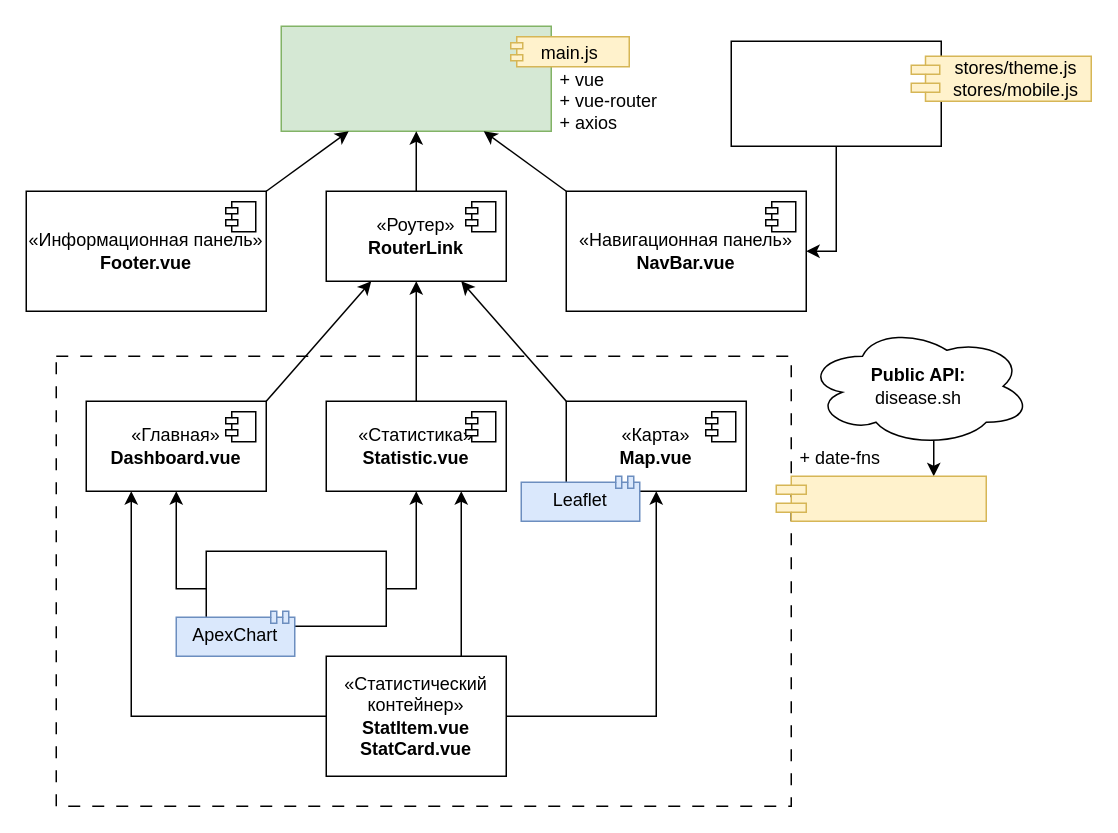
The diagram is 1118 pixels wide and 833 high, and some of its shapes have lost their labels. Here are the shapes that lost their labels. From the top down, the centre of each, then its label:
At pixel 415 78: "«Страница сайта» App.vue".
At pixel 835 93: "«Смена темы» ThemeButton.vue".
At pixel 880 498: "services/covid.api.js".
At pixel 295 588: "«График» LineChart.vue".
